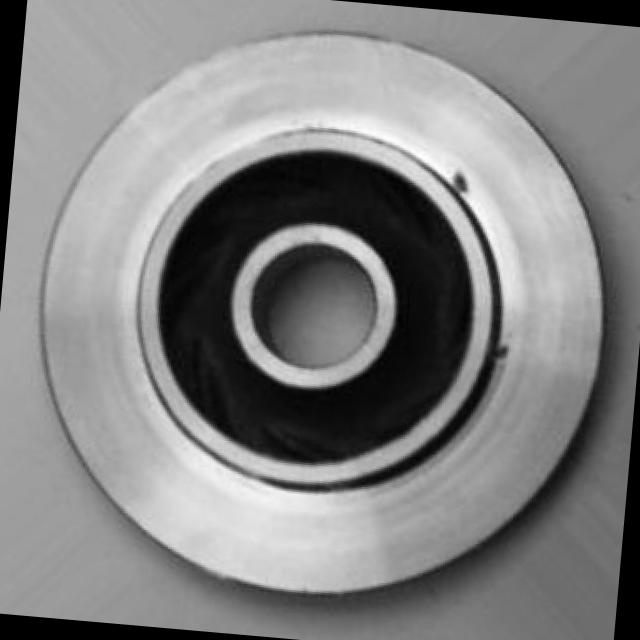Defect: (442, 158, 493, 199)
